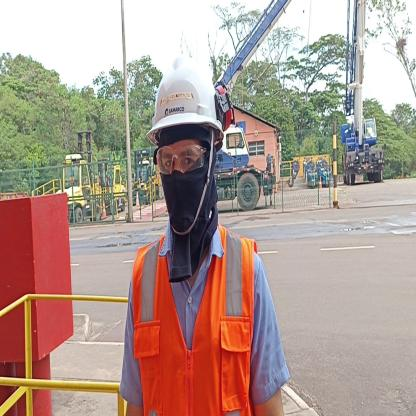Balaclava: (154, 131, 217, 242)
Capacete: (152, 55, 223, 131)
colete: (138, 247, 251, 416)
